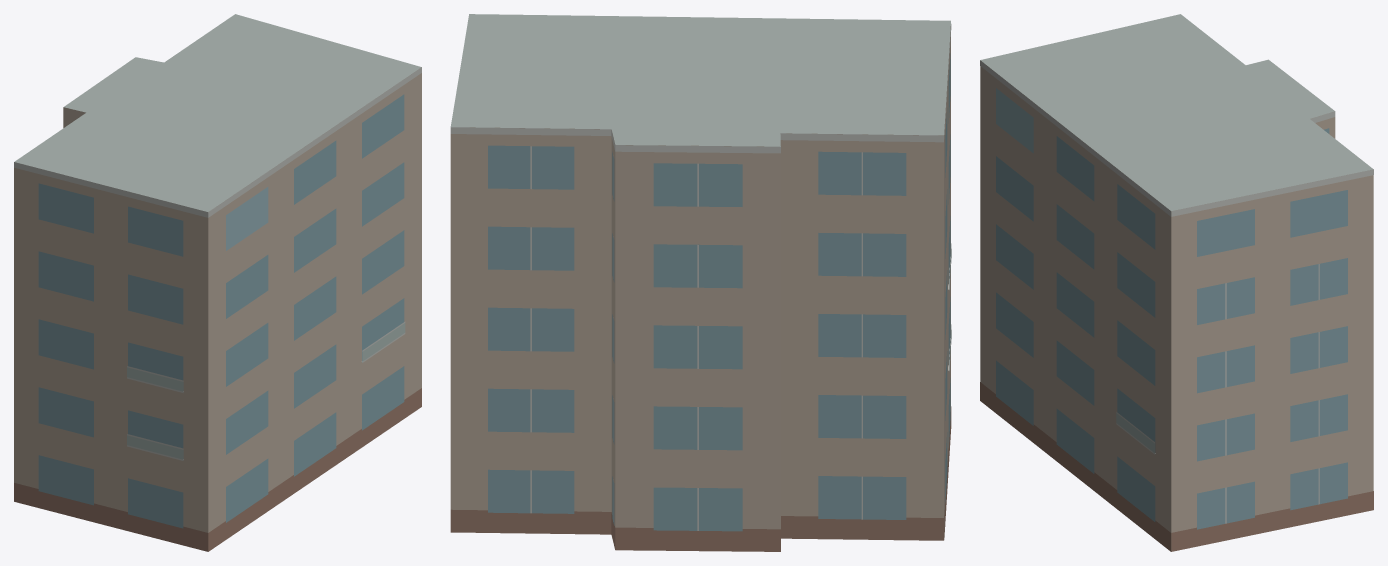
File: survey-upis-32513449.glb
3 renders of one model, left to right at view 1: azimuth 30°, elevation 25°; view 2: azimuth 150°, elevation 25°; view 3: azimuth 270°, elevation 25°, orthographic. The views are drawn at different scales.
Visible parts, largest first — view 1: survey-upis-32513449.tmp; view 2: survey-upis-32513449.tmp; view 3: survey-upis-32513449.tmp.
Boxes of the visible parts, x1,y1,x2,y2 form: survey-upis-32513449.tmp: [14, 14, 421, 551]; survey-upis-32513449.tmp: [450, 14, 951, 551]; survey-upis-32513449.tmp: [980, 14, 1373, 551].
Size of the model in its own units: 18.01 by 14.5 by 15.19.
